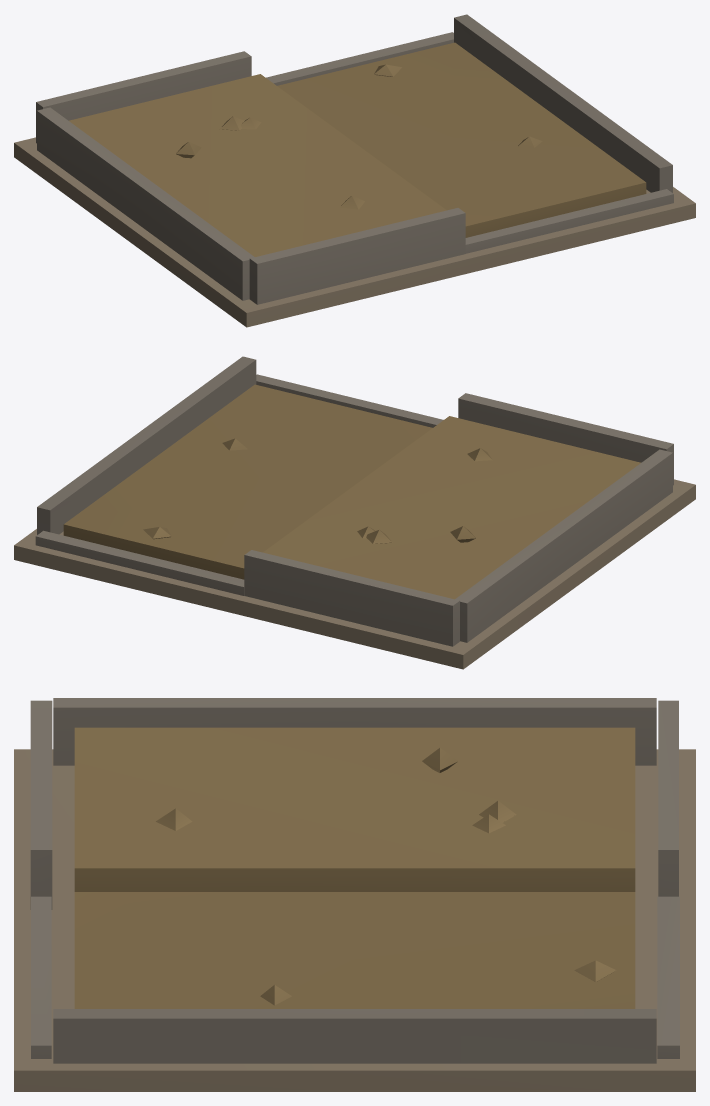
File: caral_pyramid_small_phase1_lod1.glb
3 views of the same model, one above another, from view 1: azimuth 30°, elevation 25°; view 2: azimuth 150°, elevation 25°; view 3: azimuth 270°, elevation 25° (orthographic). The views are drawn at different scales.
Visible parts, largest first — view 1: GEO-Arch_pyramid_small_phase1_LOD1; view 2: GEO-Arch_pyramid_small_phase1_LOD1; view 3: GEO-Arch_pyramid_small_phase1_LOD1.
Part boxes in pixels (x1=…): GEO-Arch_pyramid_small_phase1_LOD1: x1=14, y1=14, x2=695, y2=327; GEO-Arch_pyramid_small_phase1_LOD1: x1=14, y1=356, x2=695, y2=669; GEO-Arch_pyramid_small_phase1_LOD1: x1=14, y1=698, x2=695, y2=1091.
Bounding box in the file's own units: 19.4 × 2.4 × 17.4.
